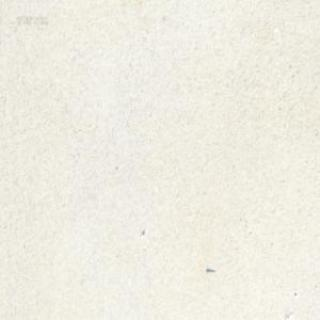Nailtrack_idkeyframe: (205, 265, 214, 272)
